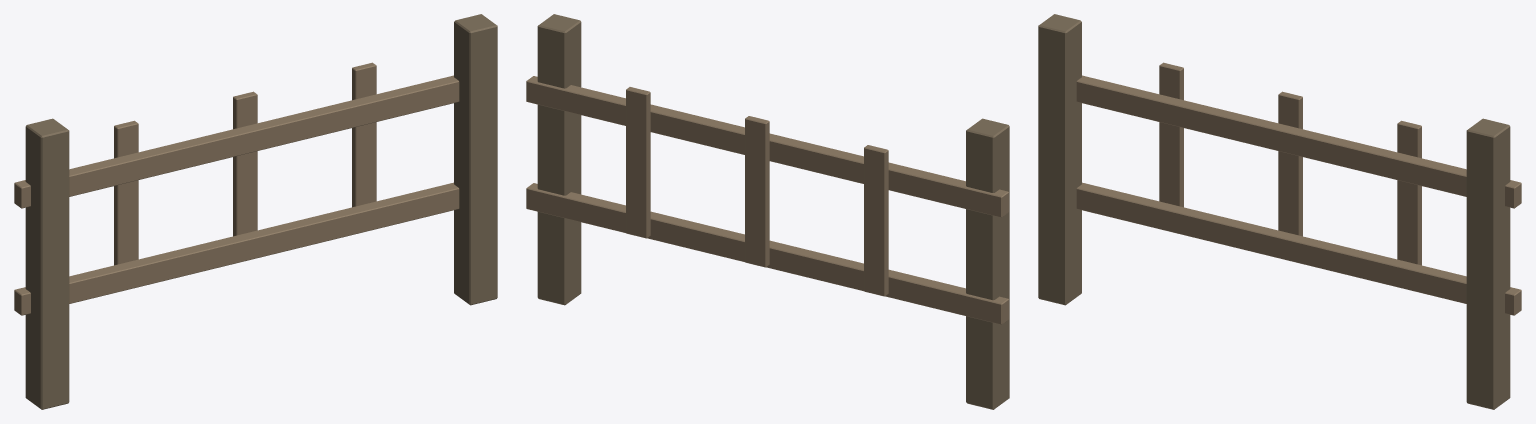
File: env_fence_rail_intact_b_v02_three_pickets.glb
3 renders of one model, left to right at view 1: azimuth 30°, elevation 25°; view 2: azimuth 150°, elevation 25°; view 3: azimuth 330°, elevation 25°, orthographic.
Visible parts, largest first — view 1: material_0, material_2; view 2: material_0, material_2; view 3: material_0, material_2.
Boxes of the visible parts, <box> form: material_0: <box>14,62,459,315</box>; material_2: <box>25,14,497,409</box>; material_0: <box>526,76,1008,324</box>; material_2: <box>537,14,1009,409</box>; material_0: <box>1076,62,1521,315</box>; material_2: <box>1038,14,1510,409</box>.
Size of the model in its own units: 2 by 1.1 by 0.195.
